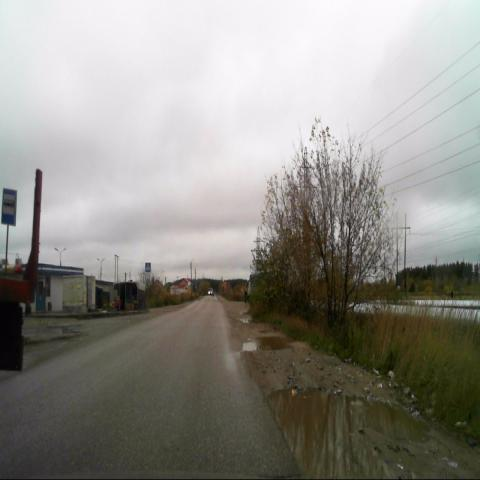5_16: (1, 188, 17, 226)
